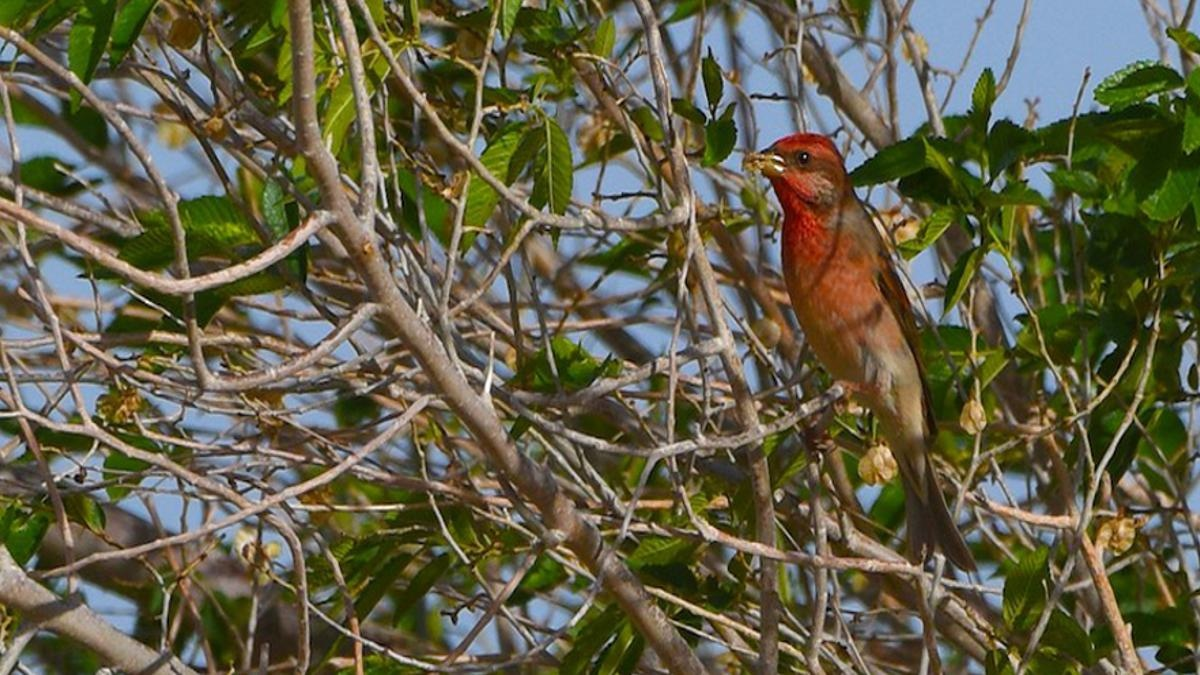rosefinch: (733, 111, 960, 507)
